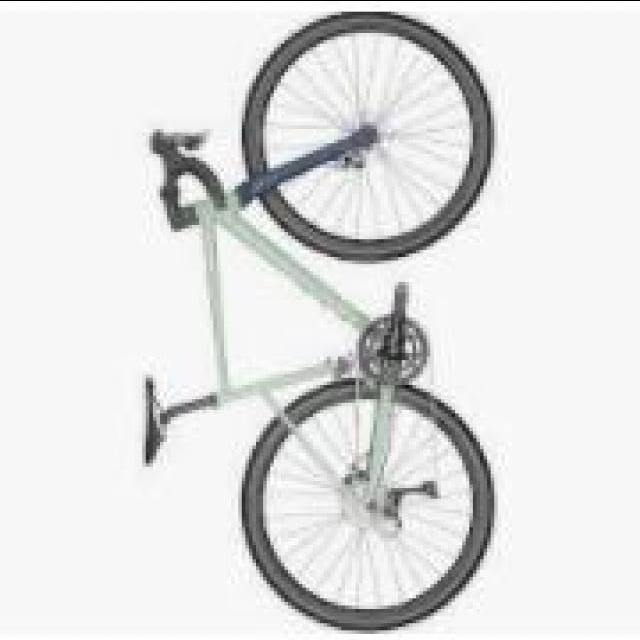bicycle: (122, 11, 513, 623)
